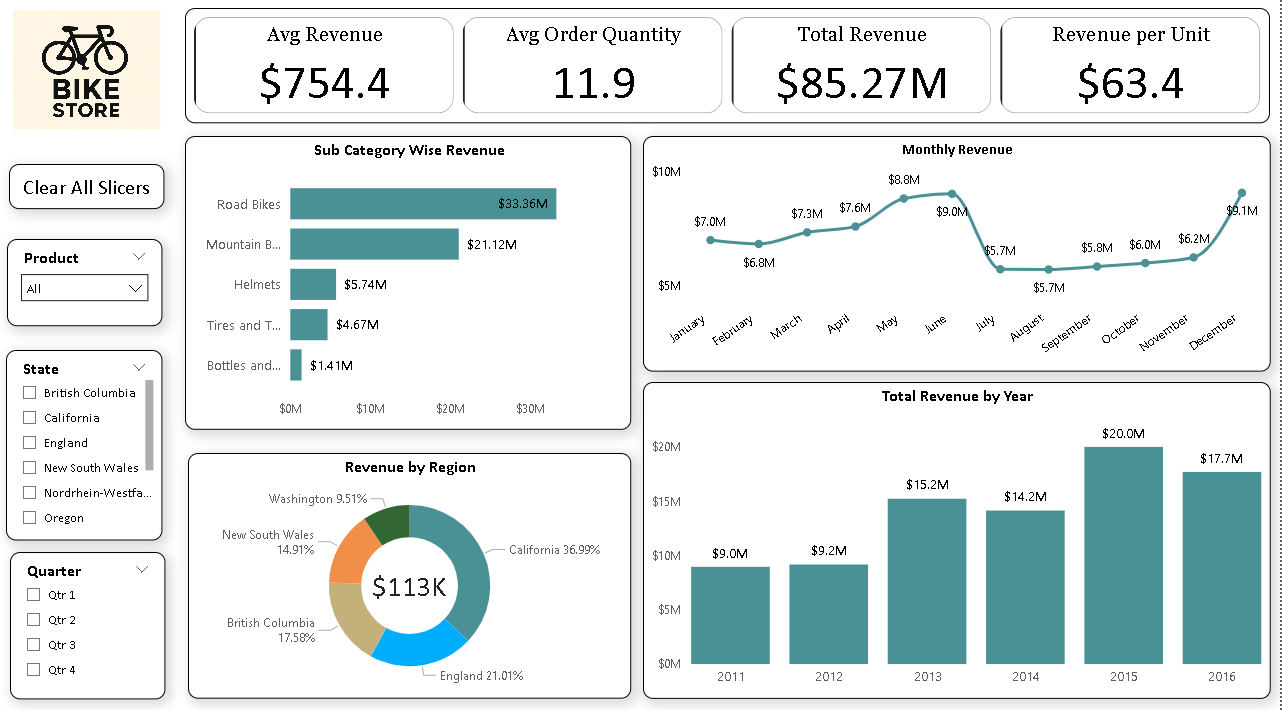

What the dashboard file says about the page in this screenshot:
{"tool":"powerbi","page":{"name":"Revenue Analysis","canvas":[1280,720],"ordinal":1},"visuals":[{"type":"cardVisual","fields":{"Data":["Bike Store Sales.Avg Revenue","Bike Store Sales.Avg Order Quantity","Bike Store Sales.Total Revenue","Bike Store Sales.Revenue per Unit"]},"box":[188.4,18.4,1082.1,114.9],"z":0},{"type":"lineChart","title":"Monthly Revenue","fields":{"Y":["Bike Store Sales.Total Revenue"],"Category":["Bike Store Sales.Date.Variation.Date Hierarchy.Month"]},"box":[645.4,145.3,625.6,234.9],"z":1000},{"type":"barChart","title":"Sub Category Wise Revenue","fields":{"Y":["Bike Store Sales.Total Revenue"],"Category":["Bike Store Sales.Sub_Category"]},"box":[188.4,145.3,445.4,293],"z":2000},{"type":"columnChart","fields":{"Category":["Bike Store Sales.Year"],"Y":["Bike Store Sales.Total Revenue"]},"box":[645.4,390.7,625.6,316.3],"z":3000},{"type":"slicer","fields":{"Values":["Bike Store Sales.Date.Variation.Date Hierarchy.Quarter"]},"box":[14,560.5,154.7,146.5],"z":4000},{"type":"slicer","fields":{"Values":["Bike Store Sales.Product"]},"box":[10.5,248.8,154.7,87.2],"z":5000},{"type":"actionButton","box":[13.3,173.2,154.7,45.3],"z":6000},{"type":"donutChart","title":"Revenue by Region","fields":{"Category":["Bike Store Sales.State"],"Y":["Sum(Bike Store Sales.Profit)"]},"box":[191.9,461.6,441.9,245.3],"z":7000},{"type":"card","fields":{"Values":["CountNonNull(Bike Store Sales.Revenue)"]},"box":[262.8,495.4,298.8,195.3],"z":8000},{"type":"image","box":[11.5,14.9,157.4,128.7],"z":9000},{"type":"slicer","fields":{"Values":["Bike Store Sales.State"]},"box":[10.5,359.3,155.8,189.5],"z":10000}]}

Visuals, with their boxes in screenshot pixels (x1, y1, x2, y2), scaled from the page's 1280x720 canvas onto the 1282x710 screenshot:
cardVisual - Bike Store Sales.Avg Revenue x Bike Store Sales.Avg Order Quantity: pyautogui.locateOnScreen(189, 18, 1272, 131)
"Monthly Revenue" lineChart: pyautogui.locateOnScreen(646, 143, 1273, 375)
"Sub Category Wise Revenue" barChart: pyautogui.locateOnScreen(189, 143, 635, 432)
columnChart - Bike Store Sales.Year x Bike Store Sales.Total Revenue: pyautogui.locateOnScreen(646, 385, 1273, 697)
slicer - Bike Store Sales.Date.Variation.Date Hierarchy.Quarter: pyautogui.locateOnScreen(14, 553, 169, 697)
slicer - Bike Store Sales.Product: pyautogui.locateOnScreen(11, 245, 165, 331)
actionButton: pyautogui.locateOnScreen(13, 171, 168, 215)
"Revenue by Region" donutChart: pyautogui.locateOnScreen(192, 455, 635, 697)
card - CountNonNull(Bike Store Sales.Revenue): pyautogui.locateOnScreen(263, 489, 562, 681)
image: pyautogui.locateOnScreen(12, 15, 169, 142)
slicer - Bike Store Sales.State: pyautogui.locateOnScreen(11, 354, 167, 541)
